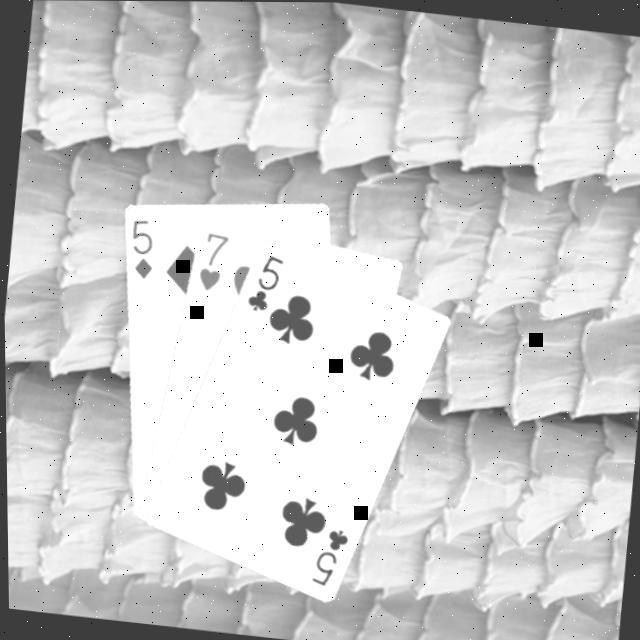5C: (305, 520, 352, 590), (241, 247, 287, 314)
5D: (122, 214, 160, 282)
7H: (192, 226, 232, 294)
